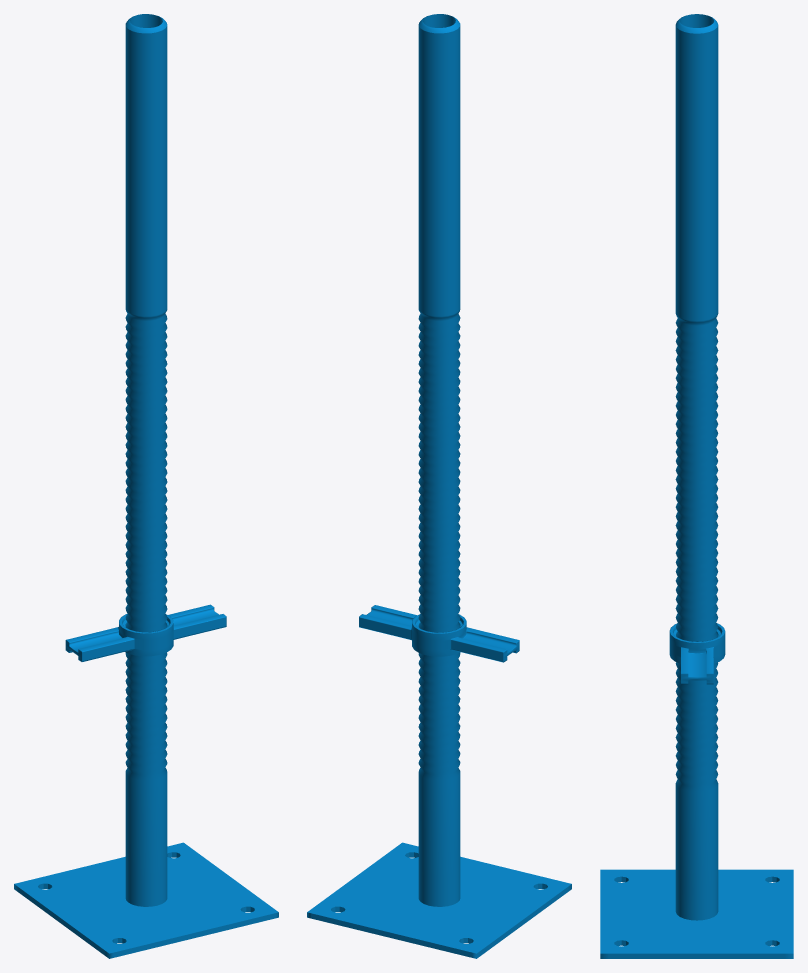
The model's file is Base_jack.fbx.
3 renders of one model, left to right at view 1: azimuth 30°, elevation 25°; view 2: azimuth 150°, elevation 25°; view 3: azimuth 270°, elevation 25°, orthographic.
Visible parts, largest first — view 1: combine_jack_and_base_Plate:combine_jack_and_base_Plate_Geo, combine_jack_and_base_Plate:Adjestable_strip_Geo; view 2: combine_jack_and_base_Plate:combine_jack_and_base_Plate_Geo, combine_jack_and_base_Plate:Adjestable_strip_Geo; view 3: combine_jack_and_base_Plate:combine_jack_and_base_Plate_Geo, combine_jack_and_base_Plate:Adjestable_strip_Geo.
Part boxes in pixels (x1,y1,x2,y2): combine_jack_and_base_Plate:combine_jack_and_base_Plate_Geo: (14,14,278,958); combine_jack_and_base_Plate:Adjestable_strip_Geo: (65,604,226,661); combine_jack_and_base_Plate:combine_jack_and_base_Plate_Geo: (307,14,571,958); combine_jack_and_base_Plate:Adjestable_strip_Geo: (359,605,519,662); combine_jack_and_base_Plate:combine_jack_and_base_Plate_Geo: (600,14,793,958); combine_jack_and_base_Plate:Adjestable_strip_Geo: (669,623,725,684).
Size of the model in its own units: 17.49 by 86.98 by 17.02.
